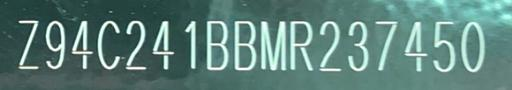letter: (202, 19, 232, 75), (314, 18, 344, 72), (398, 19, 428, 73), (459, 19, 489, 73), (428, 18, 458, 70), (258, 19, 288, 71), (370, 18, 398, 72), (150, 18, 178, 70), (343, 17, 369, 71), (288, 17, 314, 71), (96, 18, 122, 70), (68, 18, 94, 70), (41, 19, 67, 71), (14, 20, 40, 70), (124, 18, 148, 72), (232, 19, 256, 73), (178, 18, 202, 70)
